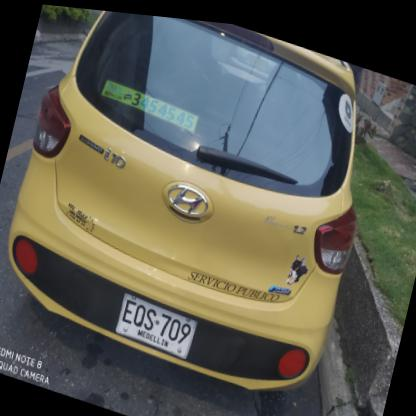placa: (106, 282, 204, 363)
